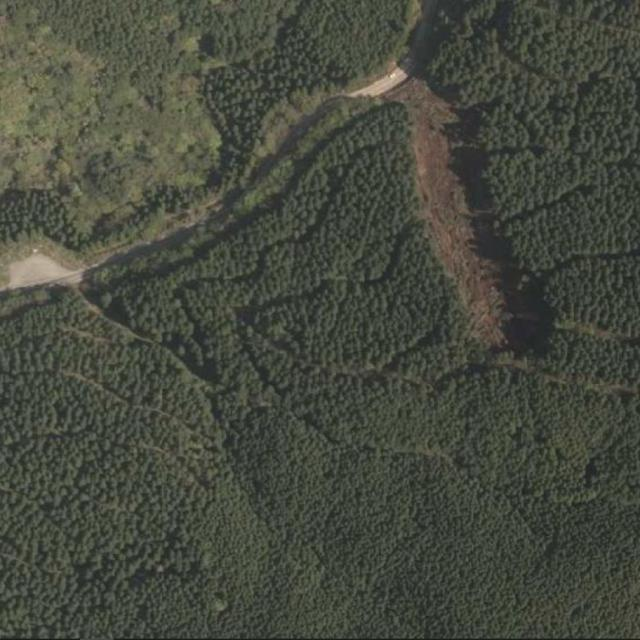landslide: (385, 77, 508, 348)
